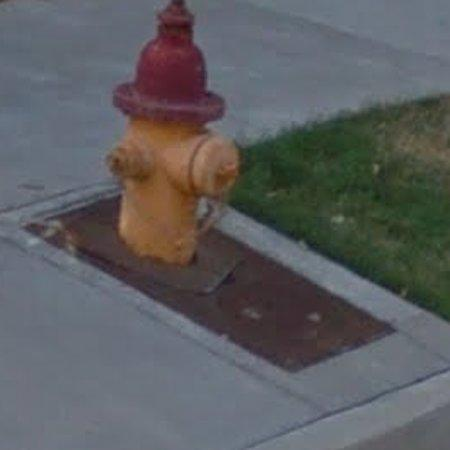a fire hydrant: (108, 0, 239, 265)
